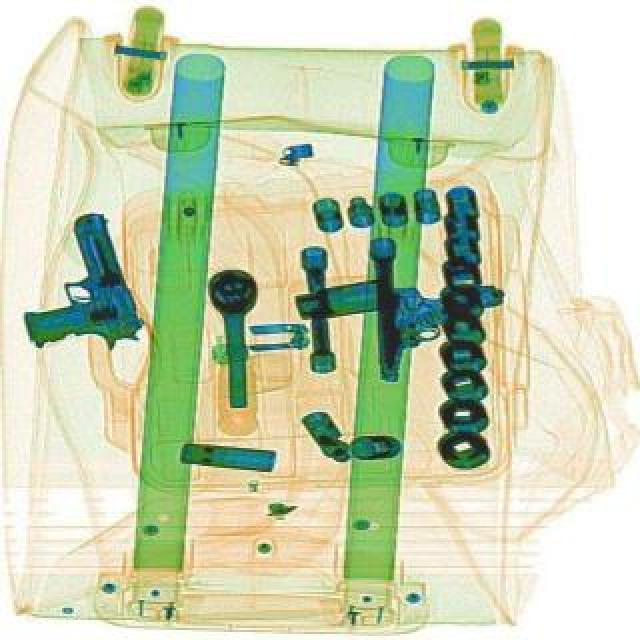gun: (0, 206, 144, 368), (370, 280, 508, 380)
